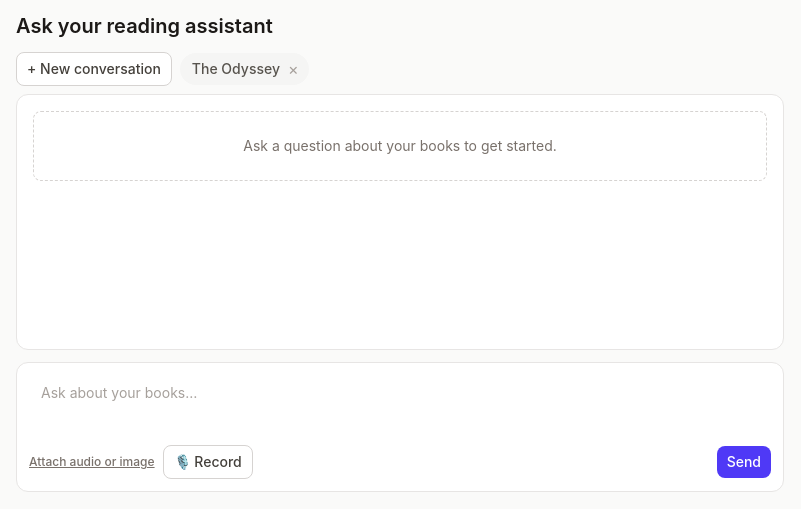
Test: Chat › clears the transcript when the active conversation is deleted
This screenshot has width=801, height=509.
Click the button "The Odyssey" at [236, 69], box [192,59,280,79]
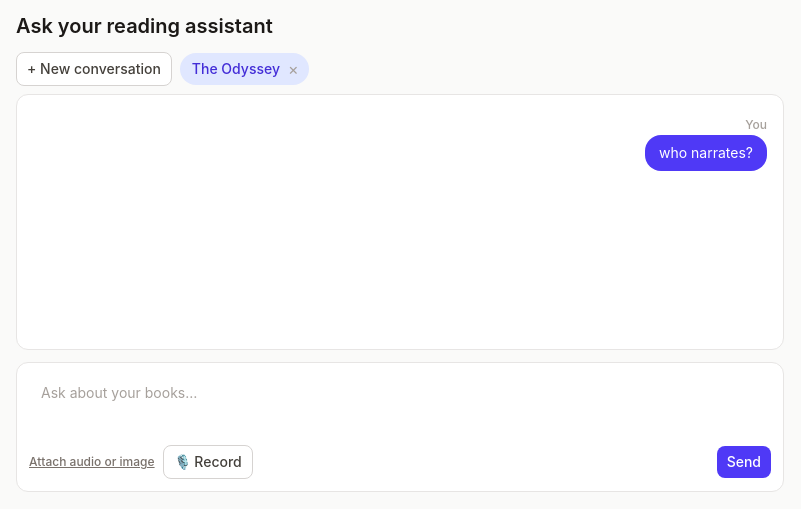
Now the text "who narrates?" is shown, box [659,144,753,161]
Click the button named "delete conversation" at [293, 69], box [284,57,303,81]
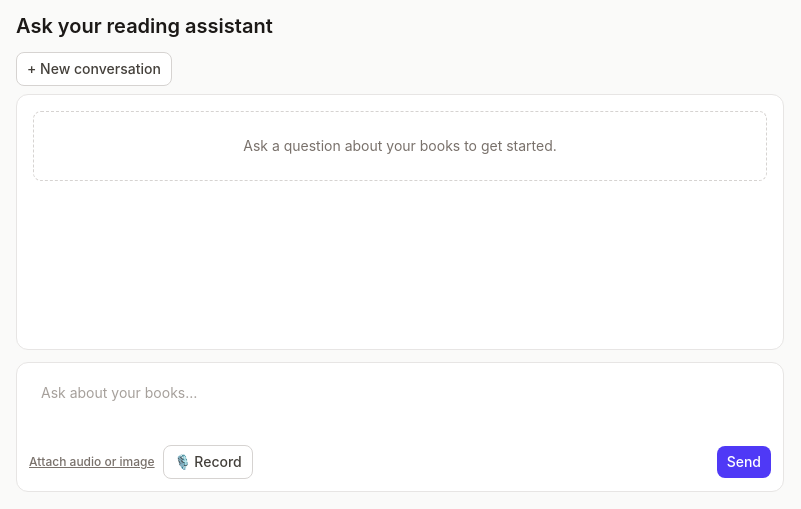
Now the text "who narrates?" is gone
